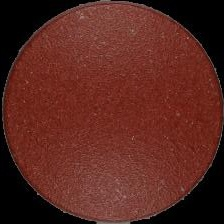49349-207: (0, 0, 224, 224)
